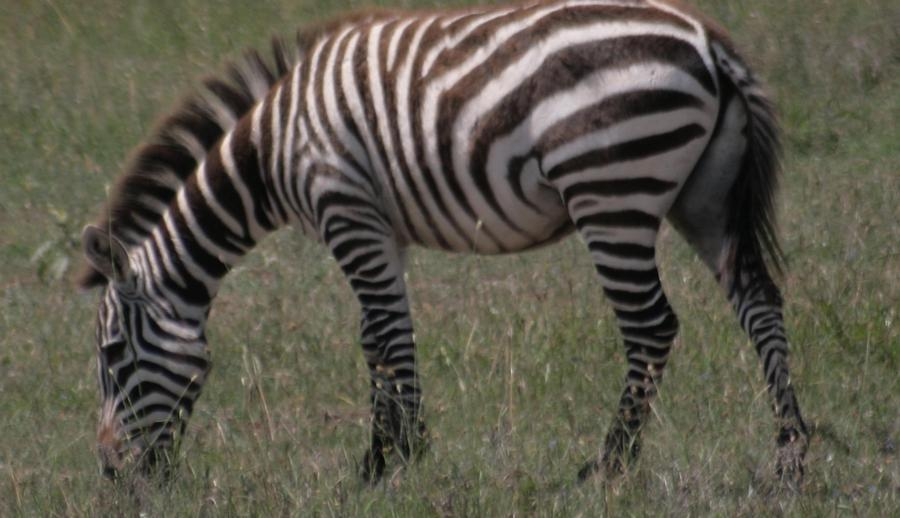zebra_plains: (266, 7, 712, 297)
